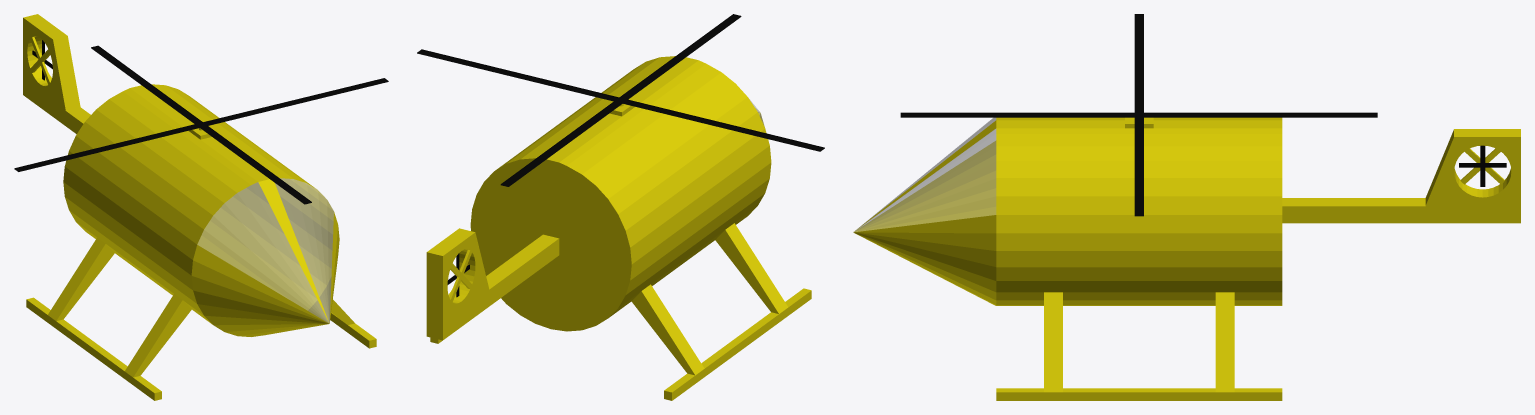
File: Helicopter.dae
3 views of the same model, side by side, from view 1: azimuth 30°, elevation 25°; view 2: azimuth 150°, elevation 25°; view 3: azimuth 270°, elevation 25° (orthographic). The views are drawn at different scales.
Visible parts, largest first — view 1: Body, Rotor; view 2: Body, Rotor; view 3: Body, Rotor.
Boxes of the visible parts, left/top/right/bottom form: Body: left=23, top=14, right=376, bottom=400; Rotor: left=14, top=45, right=388, bottom=204; Body: left=426, top=56, right=811, bottom=400; Rotor: left=417, top=14, right=824, bottom=186; Body: left=853, top=117, right=1520, bottom=400; Rotor: left=900, top=14, right=1377, bottom=216.
Bounding box in the file's own units: 5 × 7 × 2.61.
